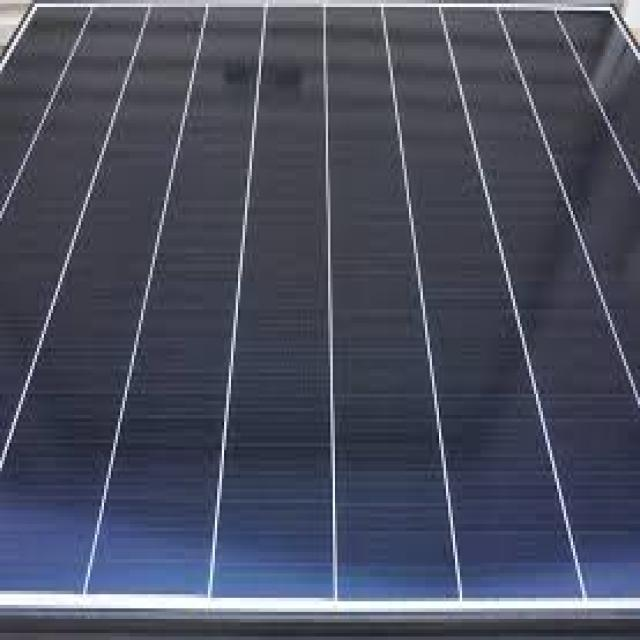clean-solar-panel: (2, 2, 640, 624)
